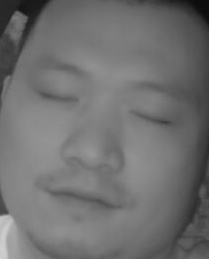blink: (130, 106, 171, 129), (37, 87, 78, 109)
mouth: (46, 181, 120, 224)
